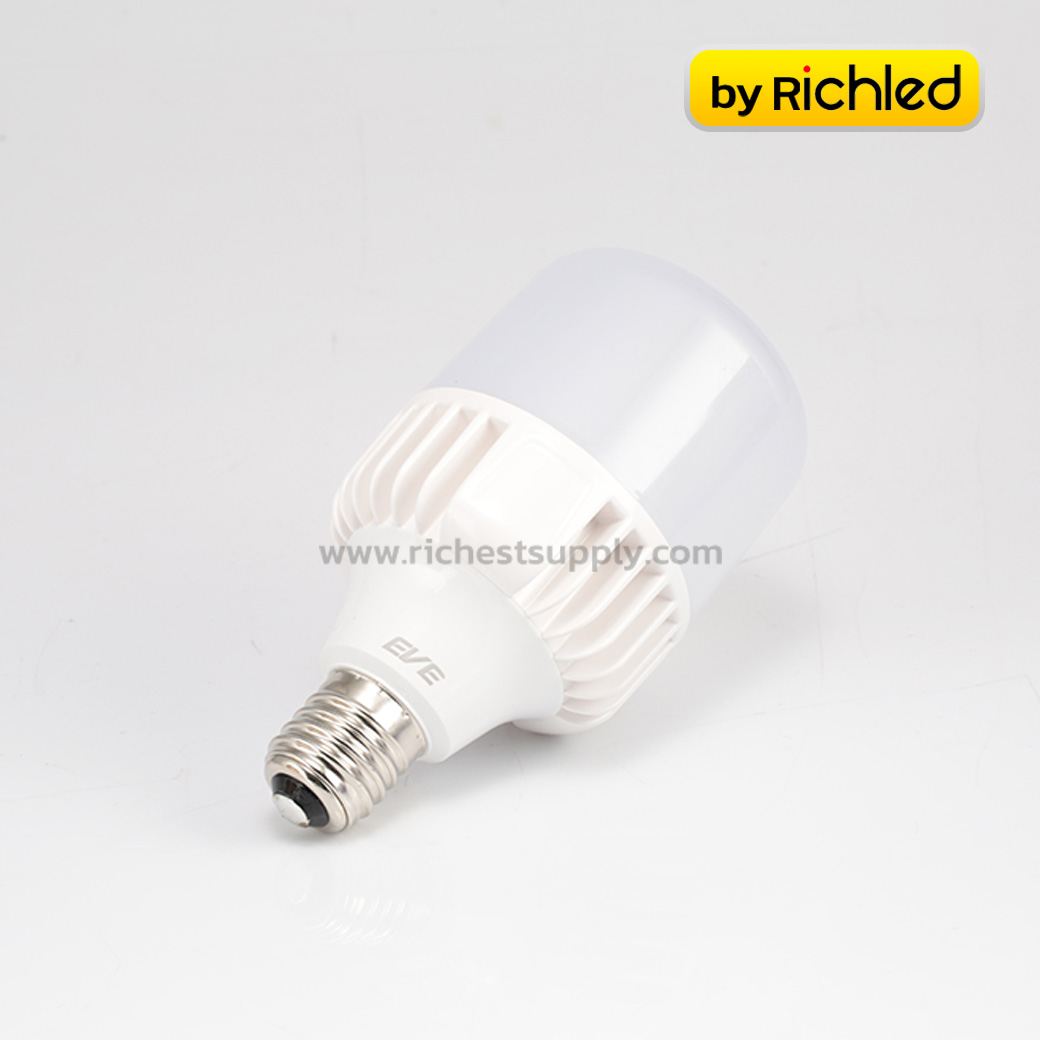Light_bulb: (210, 234, 832, 848)
